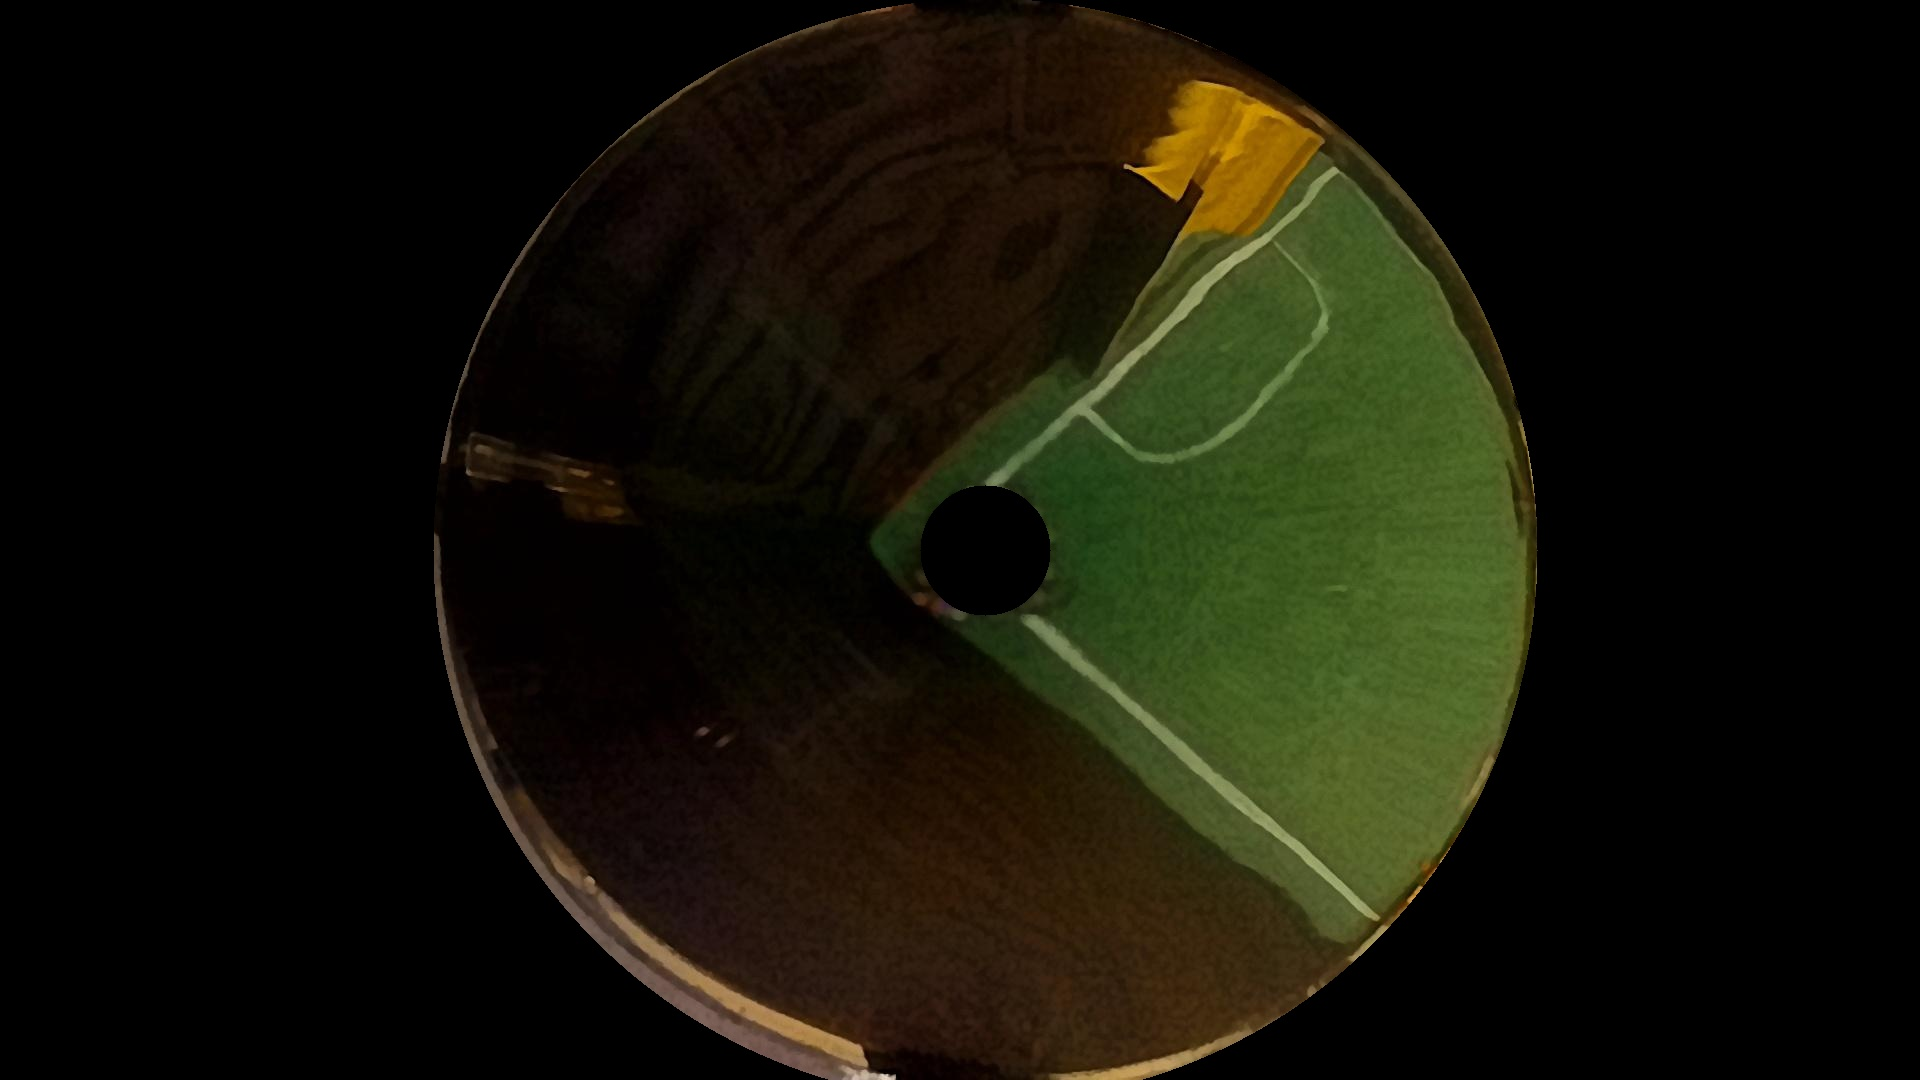yellow-goal: (1110, 124, 1313, 367)
